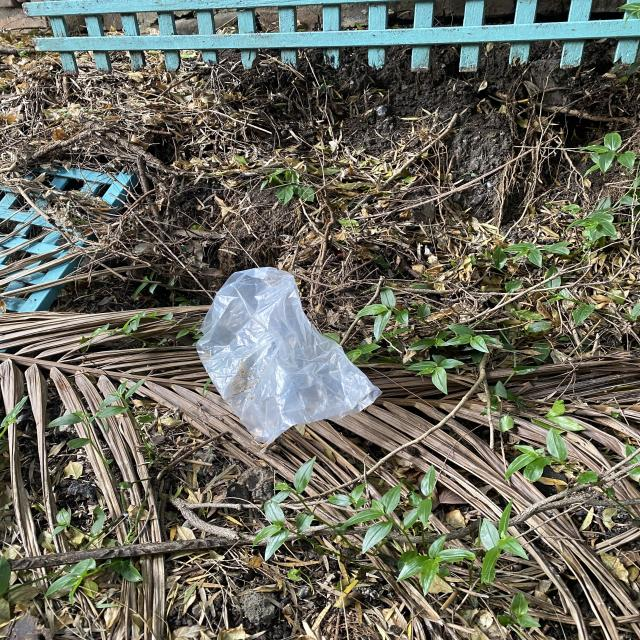bag: (195, 266, 381, 444)
